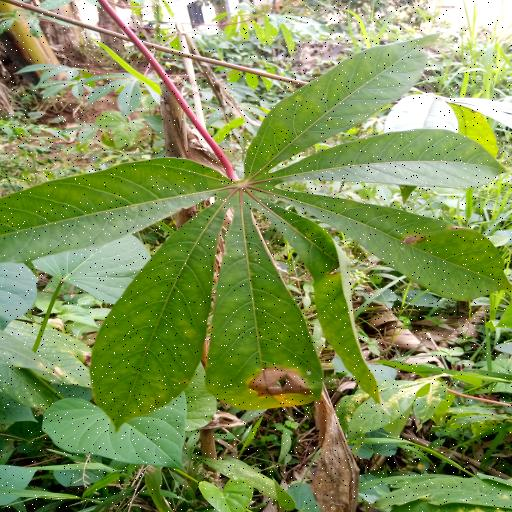Cassava_Brown_Leaf_Spot: (5, 32, 512, 426)
